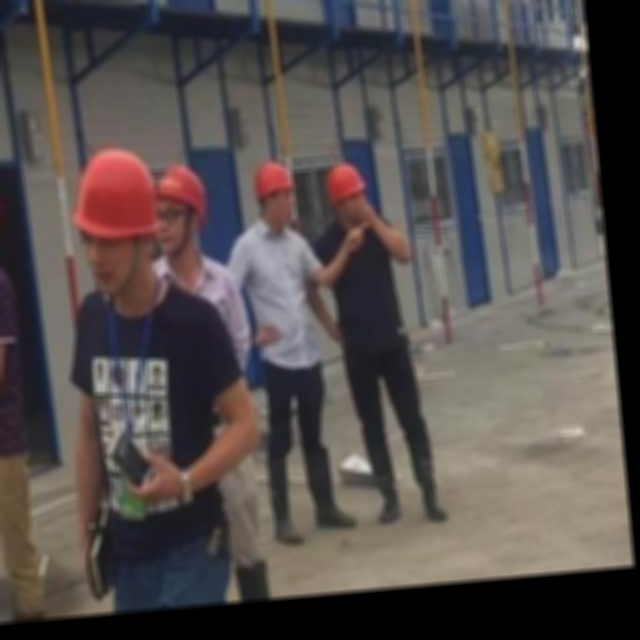Con_Casco: (71, 151, 161, 278), (325, 159, 373, 232), (251, 159, 298, 228)
